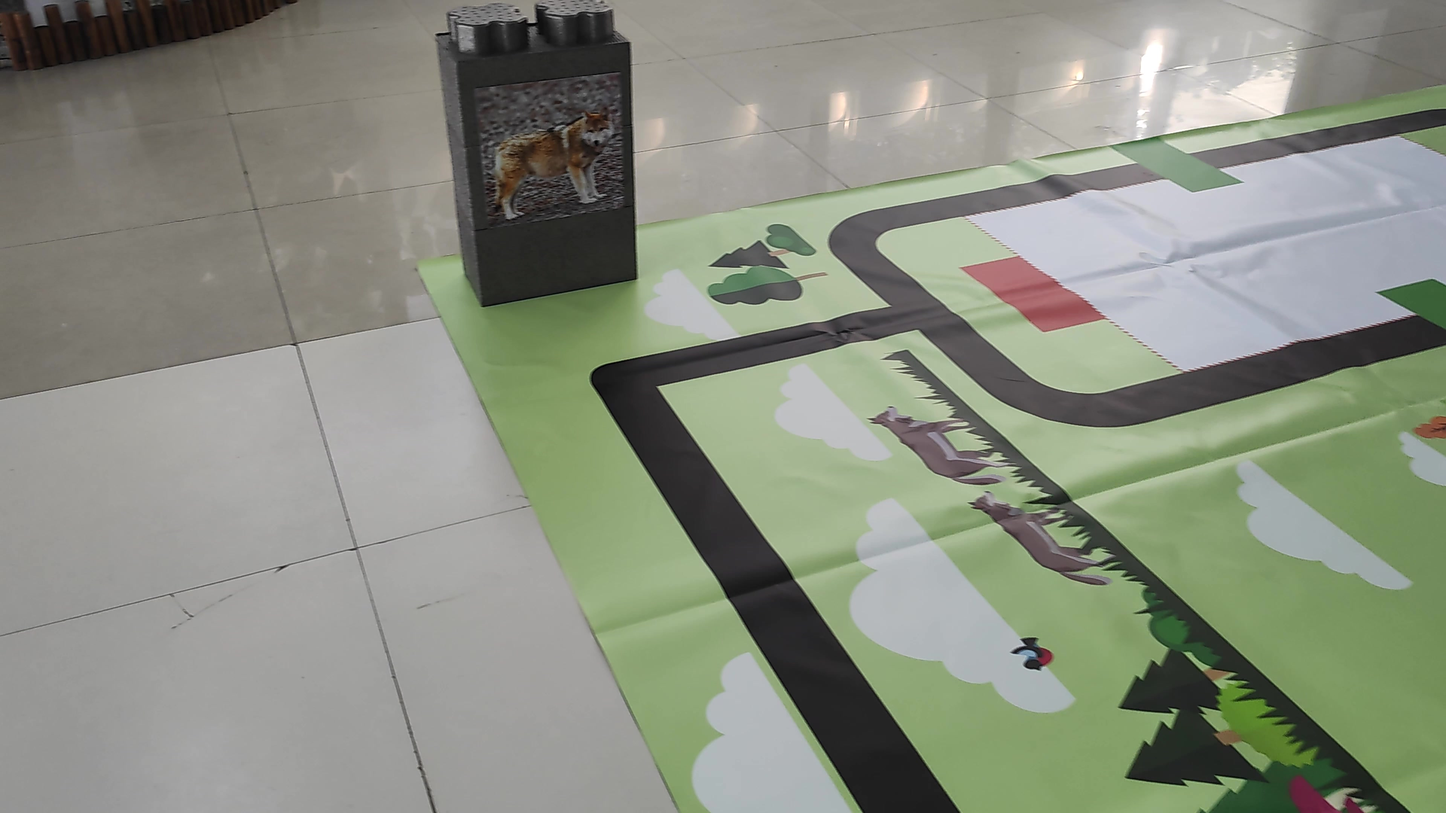wolf: (482, 86, 627, 225)
